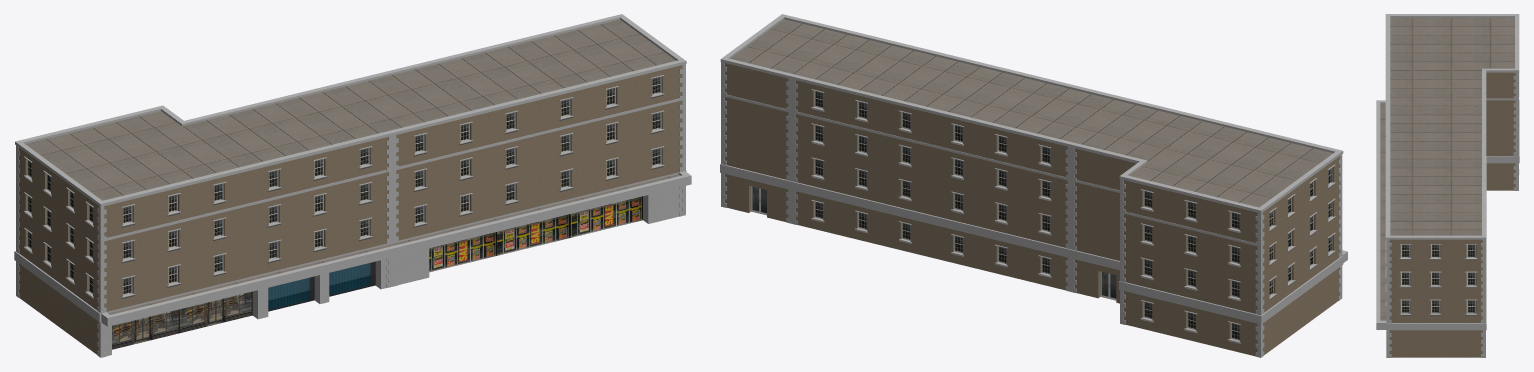
File: SM_DemoBuilding_2_C.fbx
3 renders of one model, left to right at view 1: azimuth 30°, elevation 25°; view 2: azimuth 150°, elevation 25°; view 3: azimuth 270°, elevation 25°, orthographic. The views are drawn at different scales.
Visible parts, largest first — view 1: SM_DemoBuilding_2_C_LOD0; view 2: SM_DemoBuilding_2_C_LOD0; view 3: SM_DemoBuilding_2_C_LOD0.
Part boxes in pixels (box(x1,y1,x2,y2)): SM_DemoBuilding_2_C_LOD0: box(14, 14, 691, 357); SM_DemoBuilding_2_C_LOD0: box(720, 14, 1347, 357); SM_DemoBuilding_2_C_LOD0: box(1376, 14, 1519, 357).
Size of what is drawn, in the model's own units: 60.72 by 15.26 by 16.44.
